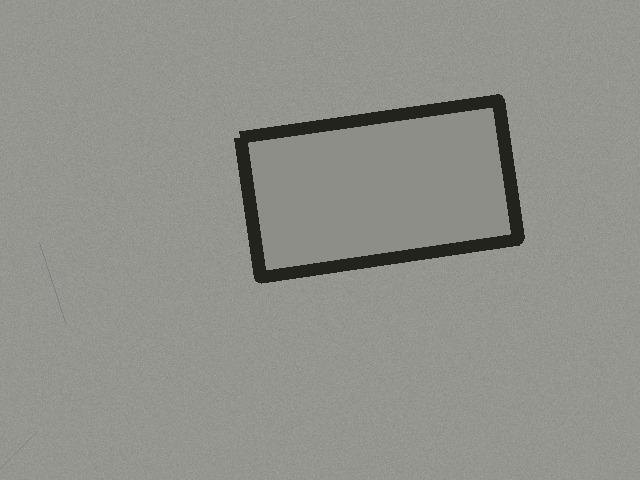parking_area: (240, 100, 518, 277)
